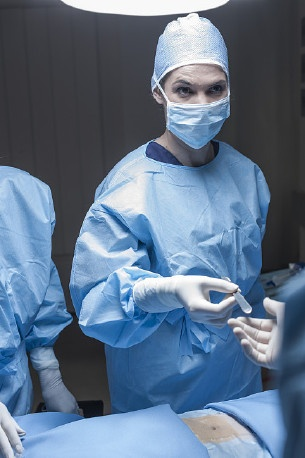Mask: (162, 78, 233, 149)
